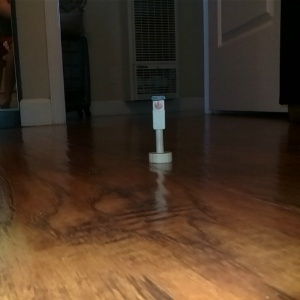traffic light red: (144, 93, 176, 166)
